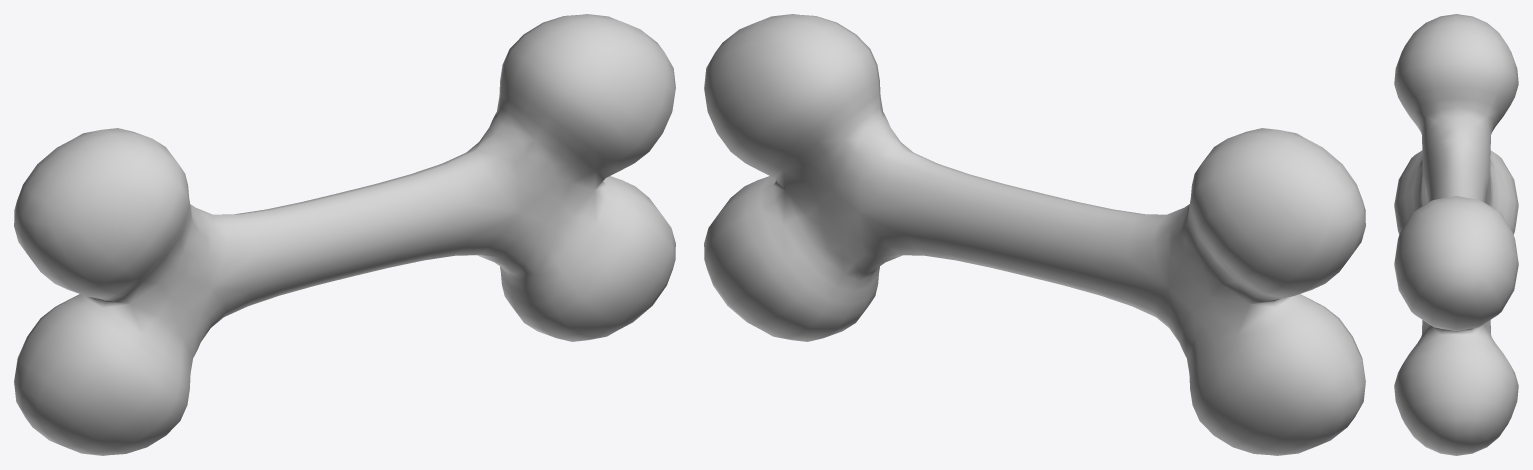
The model's file is bone.FBX.
3 views of the same model, side by side, from view 1: azimuth 30°, elevation 25°; view 2: azimuth 150°, elevation 25°; view 3: azimuth 270°, elevation 25° (orthographic). The views are drawn at different scales.
Parts seen in each view (by area): view 1: _; view 2: _; view 3: _.
Boxes of the visible parts, x1=… form: _: x1=14, y1=14, x2=675, y2=455; _: x1=704, y1=14, x2=1365, y2=455; _: x1=1394, y1=14, x2=1518, y2=455.
Bounding box in the file's own units: 19.63 × 9.08 × 4.17.
Materials: 1 (1 with a texture image).
